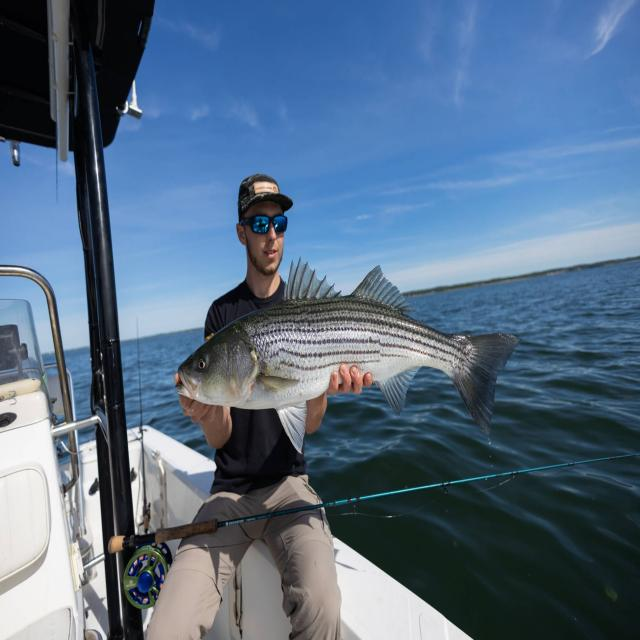Bass - Striped: (176, 261, 518, 449)
